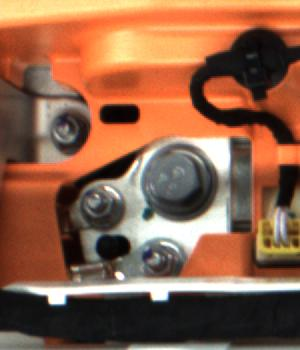screw_s: (136, 241, 177, 280), (49, 111, 87, 150), (80, 185, 121, 220)
